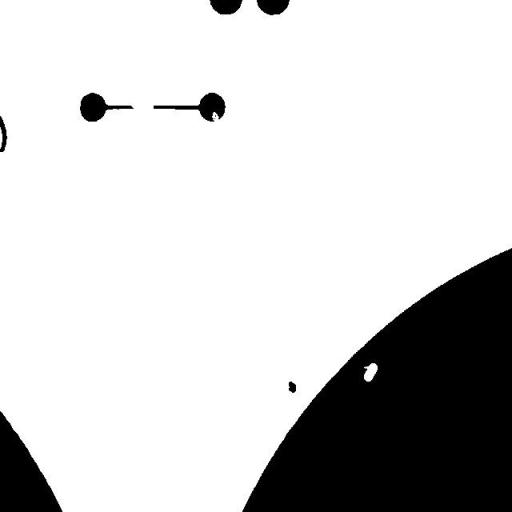copper: (281, 374, 303, 400)
mousebite: (204, 104, 227, 130)
open: (122, 94, 161, 119)
pin-hole: (356, 355, 385, 389)
